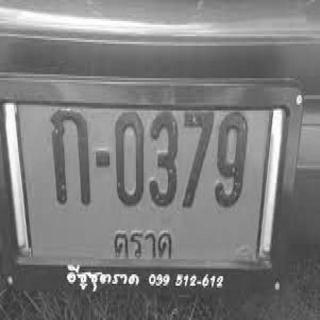A01: (46, 105, 92, 214)
N00: (112, 109, 147, 210)
N03: (148, 109, 179, 209)
N07: (180, 110, 214, 214)
N09: (215, 110, 249, 216)
P69: (111, 226, 175, 264)
